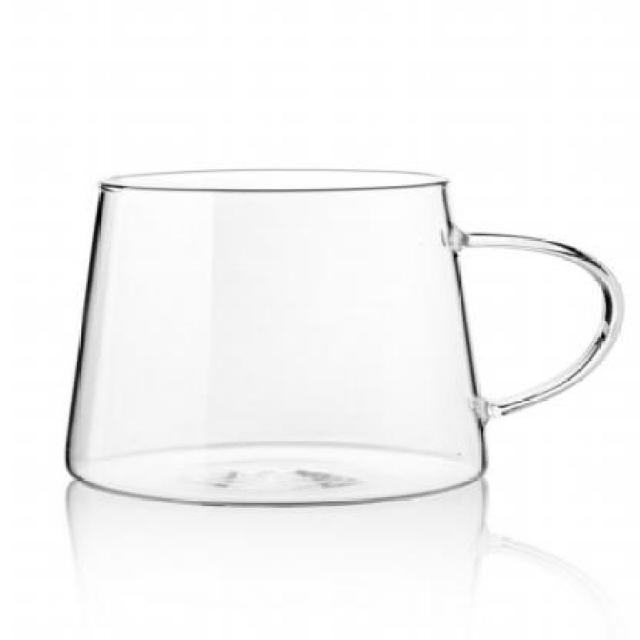taza: (64, 170, 626, 500)
